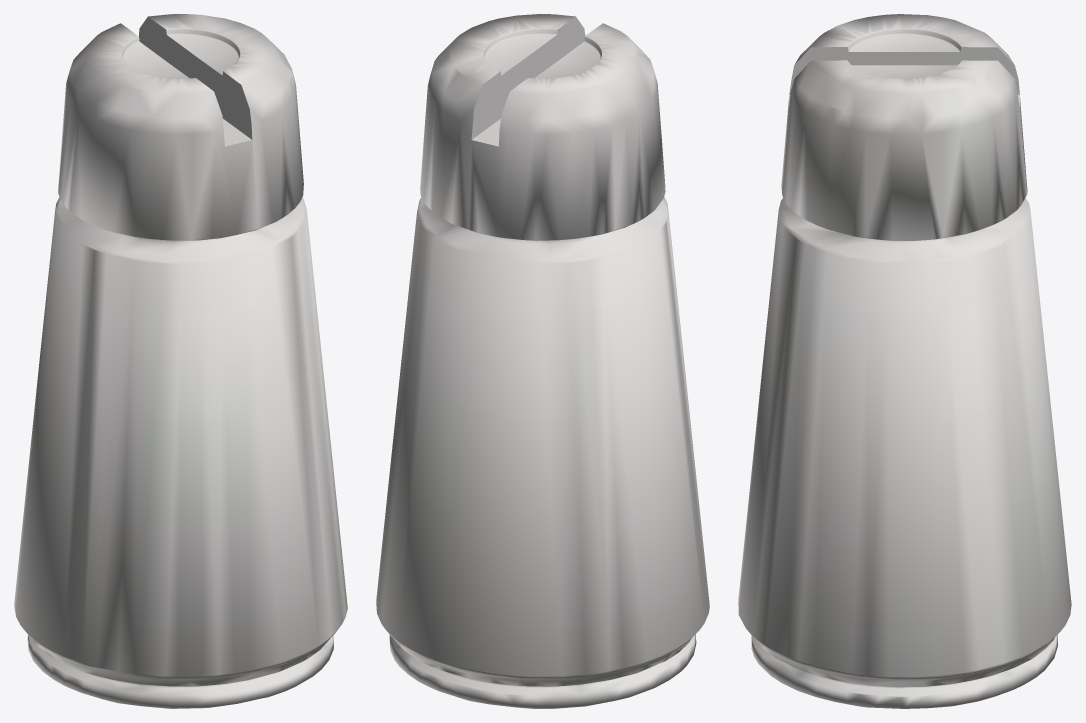
Rendered from 05_vez_bila.glb.
3 views of the same model, side by side, from view 1: azimuth 30°, elevation 25°; view 2: azimuth 150°, elevation 25°; view 3: azimuth 270°, elevation 25° (orthographic).
Parts seen in each view (by area): view 1: 05_vez_bila; view 2: 05_vez_bila; view 3: 05_vez_bila.
Part boxes in pixels (x1,y1,x2,y2): 05_vez_bila: [14, 14, 347, 708]; 05_vez_bila: [376, 14, 709, 708]; 05_vez_bila: [738, 14, 1071, 708].
Bounding box in the file's own units: 0.035 × 0.0684 × 0.0349.
1 material, 1 textured.
